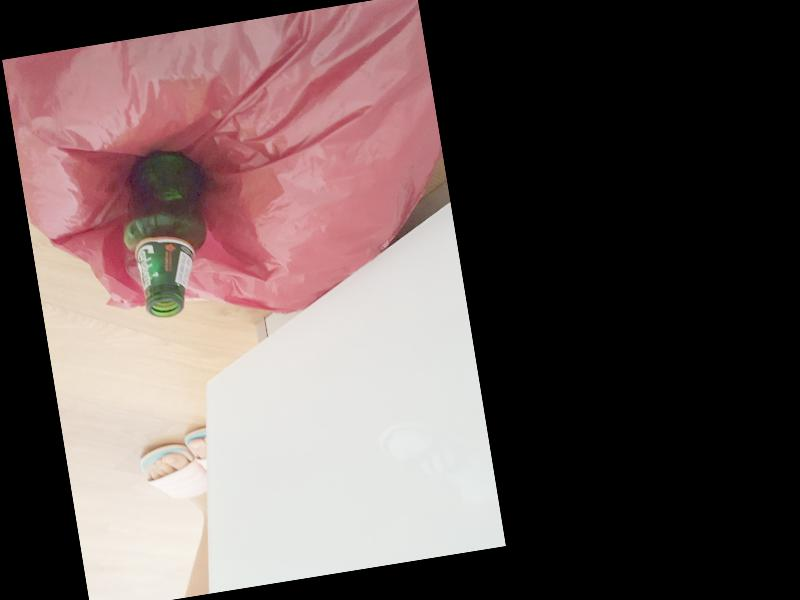Beer: (111, 144, 225, 321)
